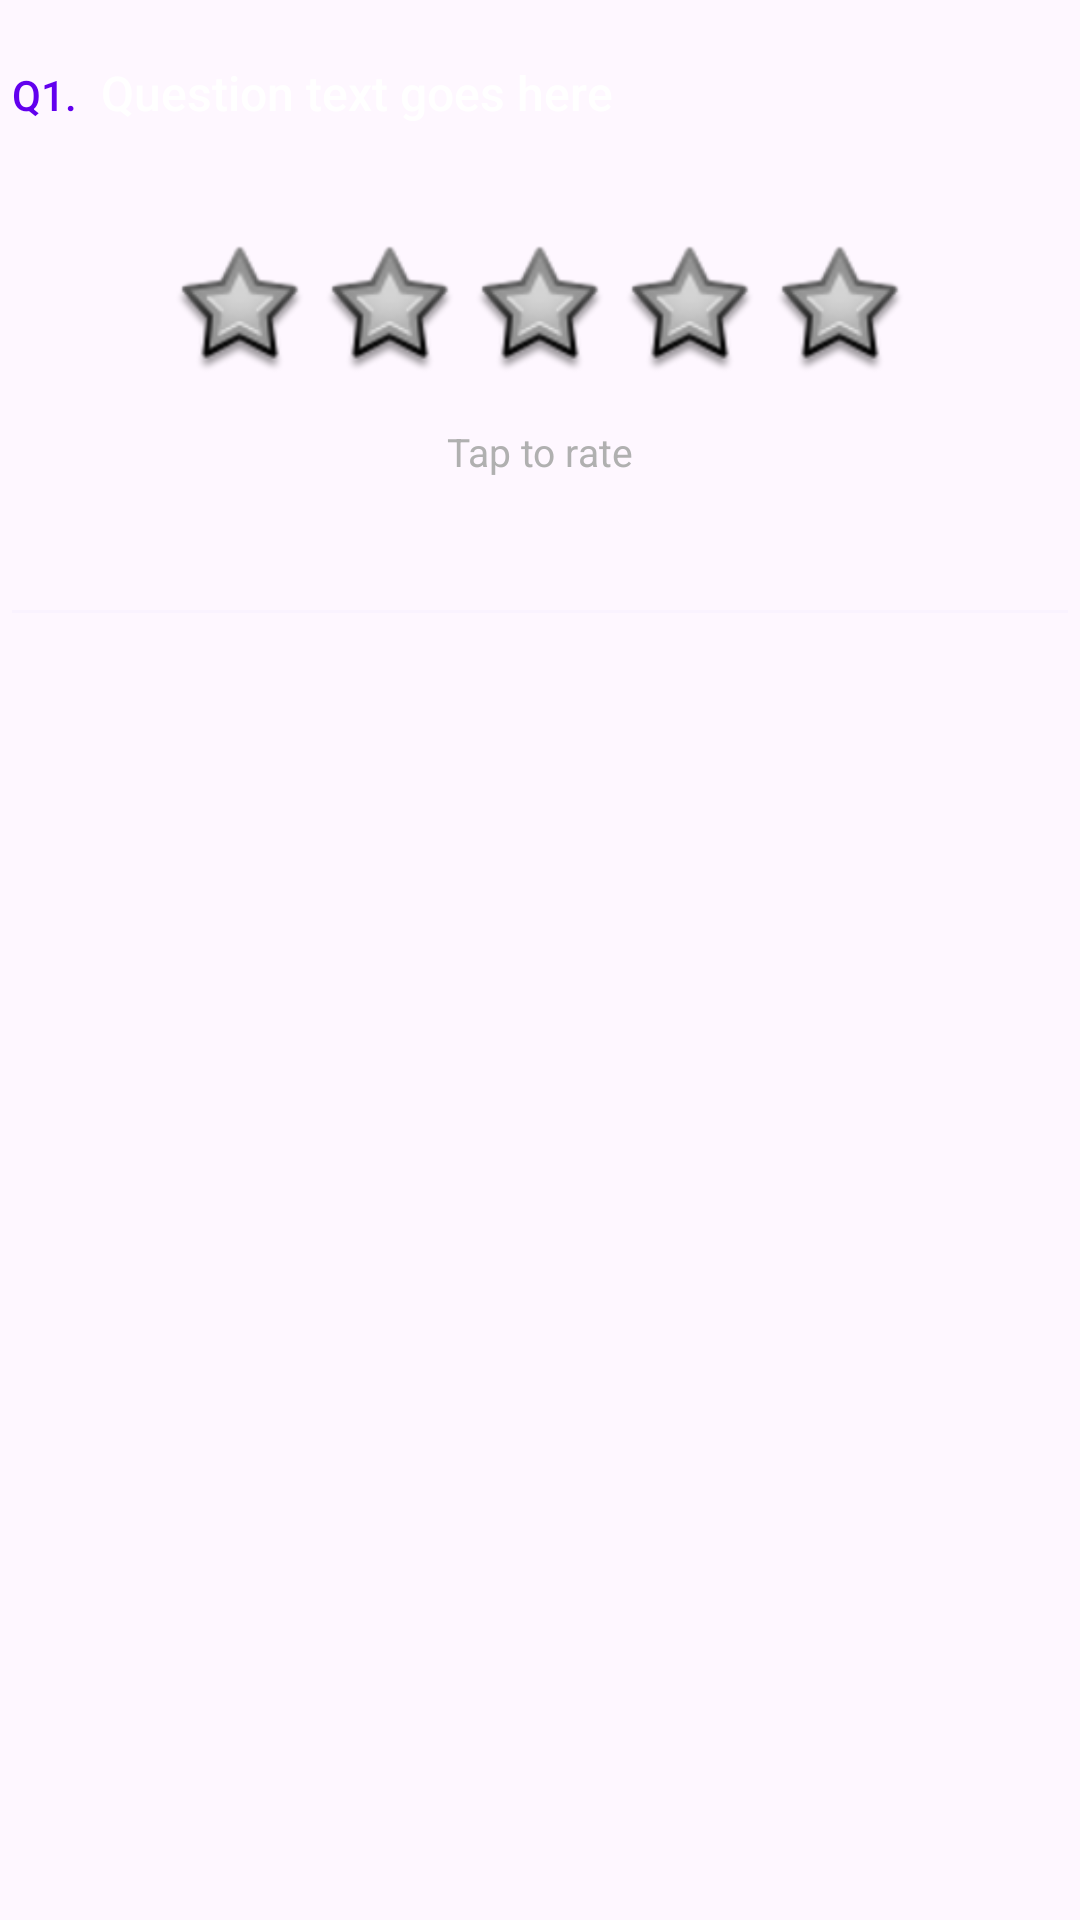

Icon bounding boxes for this 1080 x 1920 phone screenshot, format (x1, y1, x2, y2):
Star 1: (181, 247, 298, 366)
Star 2: (331, 247, 448, 366)
Star 3: (481, 247, 598, 366)
Star 4: (631, 247, 748, 366)
Star 5: (781, 247, 898, 366)
